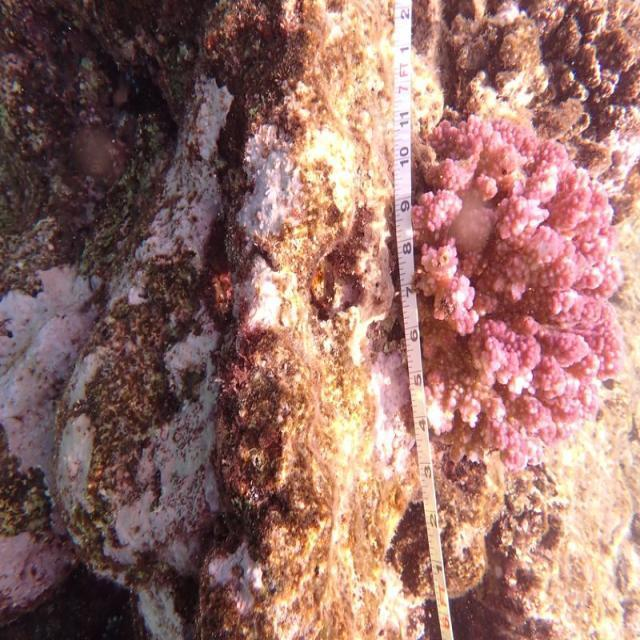Healthy Coral: (426, 114, 627, 479)
